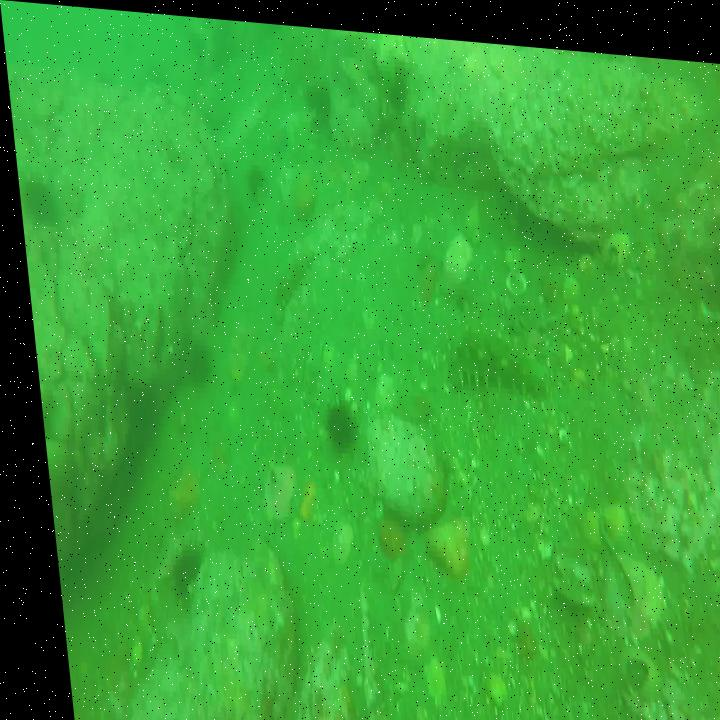echinus: (17, 174, 60, 233), (157, 542, 193, 589), (313, 394, 348, 442), (173, 331, 201, 381), (384, 49, 407, 97), (309, 78, 334, 118), (246, 158, 268, 195)
holothurian: (438, 326, 543, 400), (265, 240, 314, 312)
